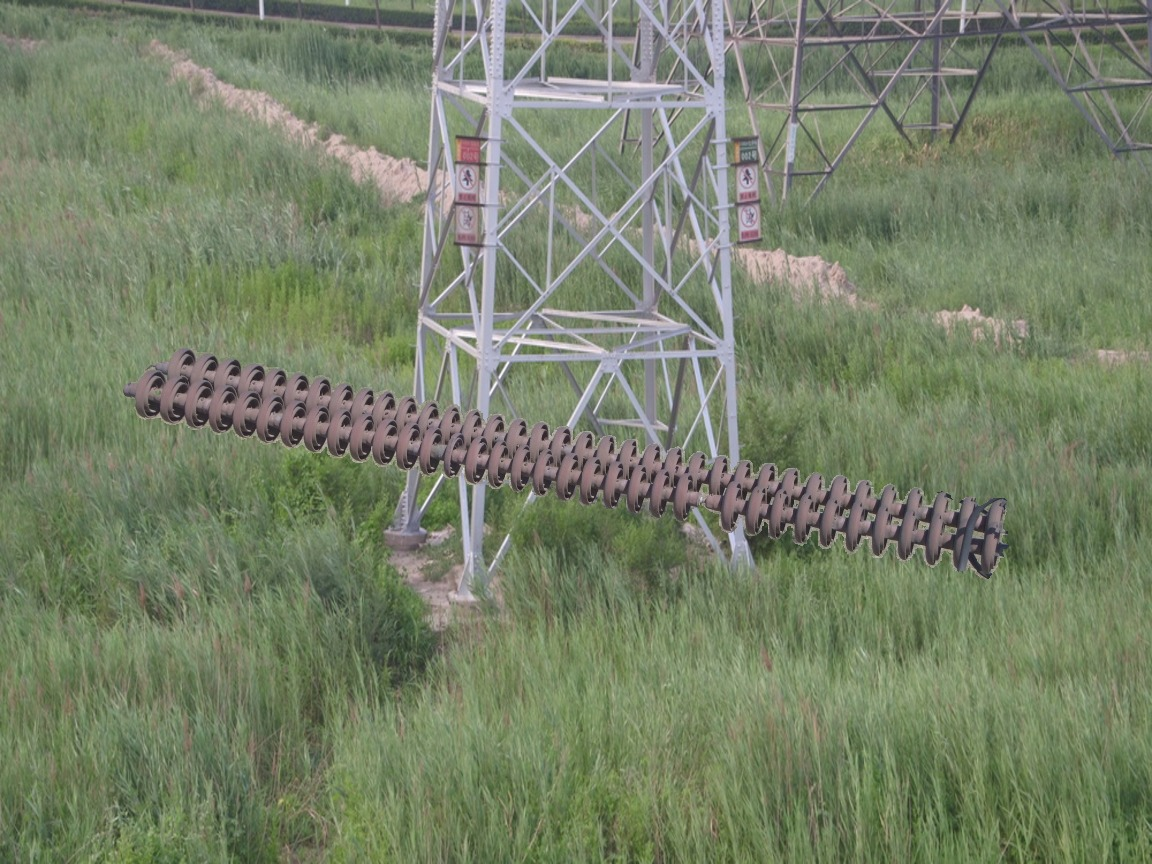defect: (665, 469, 746, 532)
